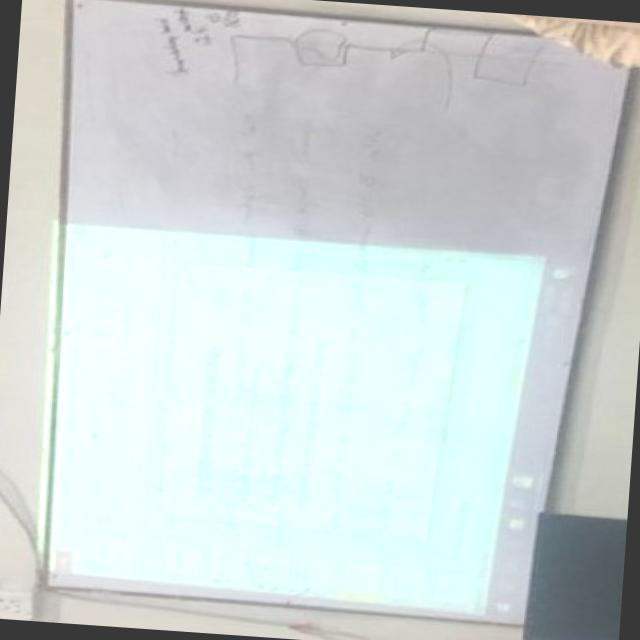Slide: (34, 217, 568, 615)
White-board: (38, 0, 633, 624)
